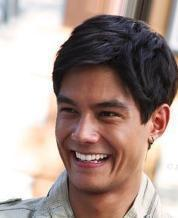face: (57, 94, 129, 172)
